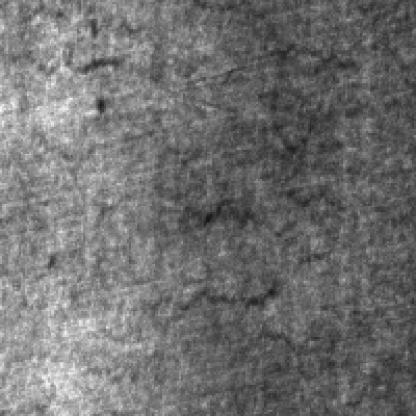crazing: (176, 185, 366, 318), (204, 4, 362, 160)
